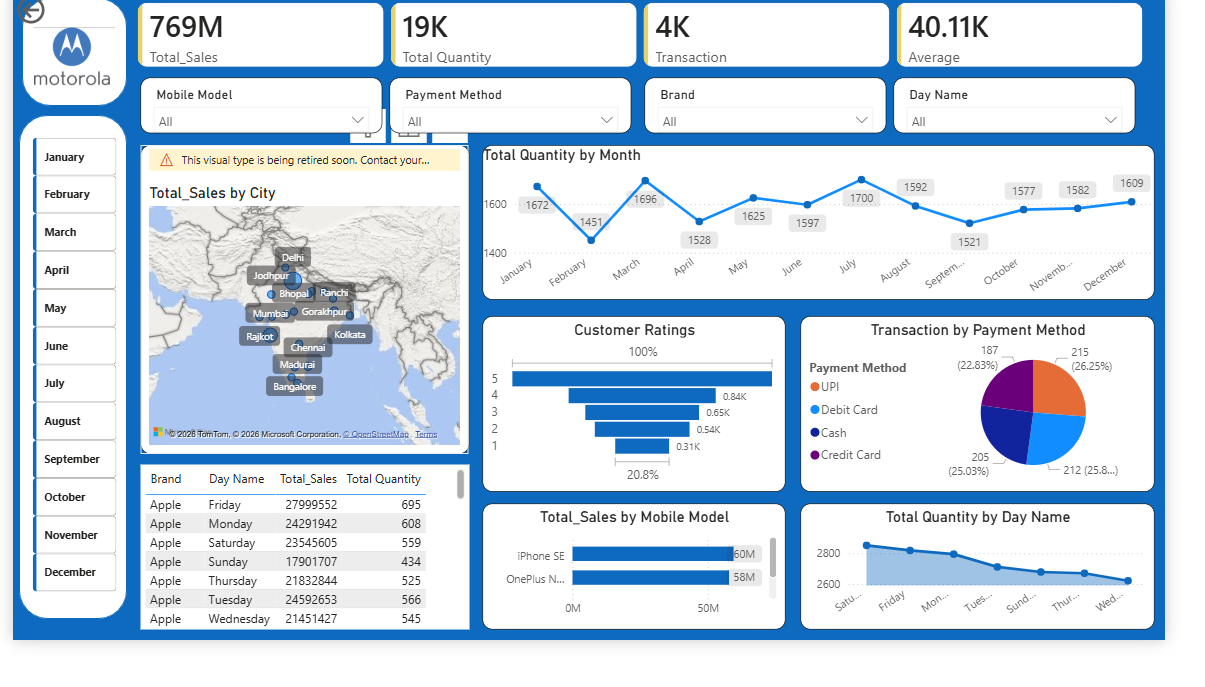

The page's visual inventory and layout, read from the dashboard file:
{"tool":"powerbi","page":{"name":"Page 3","canvas":[1280,720],"ordinal":4},"visuals":[{"type":"shape","box":[10,6.7,116.7,120],"z":0},{"type":"shape","box":[6.7,136.7,120,560],"z":1},{"type":"image","box":[23.3,10,90,126.7],"z":2},{"type":"cardVisual","fields":{"Data":["salessssmdata.Total_Sales","salessssmdata.Total Quantity","salessssmdata.Transaction","salessssmdata.Average"]},"box":[126.7,0,1141.7,95],"z":4},{"type":"map","fields":{"Category":["salessssmdata.City"],"Size":["salessssmdata.Total_Sales"]},"box":[141.7,170,365,343.3],"z":5},{"type":"advancedSlicerVisual","fields":{"Values":["salessssmdata.Date.Variation.Date Hierarchy.Month"]},"box":[16.7,156.7,103.3,520],"z":6},{"type":"lineChart","fields":{"Category":["salessssmdata.Date.Variation.Date Hierarchy.Month"],"Y":["salessssmdata.Total Quantity"]},"box":[521.7,170,746.7,171.7],"z":7},{"type":"barChart","fields":{"Category":["salessssmdata.Mobile Model"],"Y":["salessssmdata.Total_Sales"]},"box":[521.7,568.3,336.7,140],"z":8},{"type":"pieChart","fields":{"Category":["salessssmdata.Payment Method"],"Y":["salessssmdata.Transaction"]},"box":[875,360,393.3,195],"z":9},{"type":"funnel","title":"Customer Ratings ","fields":{"Category":["salessssmdata.Customer Ratings"],"Y":["CountNonNull(salessssmdata.Customer Ratings)"]},"box":[521.7,360,336.7,195],"z":11},{"type":"stackedAreaChart","fields":{"Category":["salessssmdata.Day Name"],"Y":["salessssmdata.Total Quantity"]},"box":[875,568.3,393.3,140],"z":12},{"type":"tableEx","fields":{"Values":["salessssmdata.Brand","salessssmdata.Day Name","salessssmdata.Total_Sales","salessssmdata.Total Quantity"]},"box":[141.7,525,365,183.3],"z":13},{"type":"slicer","fields":{"Values":["salessssmdata.Mobile Model"]},"box":[141.7,95,268.3,61.7],"z":14},{"type":"slicer","fields":{"Values":["salessssmdata.Payment Method"]},"box":[418.3,95,268.3,61.7],"z":15},{"type":"slicer","fields":{"Values":["salessssmdata.Brand"]},"box":[701.7,95,268.3,61.7],"z":16},{"type":"slicer","fields":{"Values":["salessssmdata.Day Name"]},"box":[978.3,95,268.3,61.7],"z":17},{"type":"actionButton","box":[0,0,100,40],"z":18}]}

Visuals, with their boxes in screenshot pixels (x1, y1, x2, y2):
shape: Rect(22, 0, 126, 104)
shape: Rect(19, 113, 126, 614)
image: Rect(33, 0, 114, 113)
cardVisual - salessssmdata.Total_Sales x salessssmdata.Total Quantity: Rect(126, 0, 1148, 76)
map - salessssmdata.City x salessssmdata.Total_Sales: Rect(139, 143, 466, 450)
advancedSlicerVisual - salessssmdata.Date.Variation.Date Hierarchy.Month: Rect(28, 131, 120, 597)
lineChart - salessssmdata.Date.Variation.Date Hierarchy.Month x salessssmdata.Total Quantity: Rect(480, 143, 1148, 297)
barChart - salessssmdata.Mobile Model x salessssmdata.Total_Sales: Rect(480, 499, 781, 625)
pieChart - salessssmdata.Payment Method x salessssmdata.Transaction: Rect(796, 313, 1148, 488)
"Customer Ratings " funnel: Rect(480, 313, 781, 488)
stackedAreaChart - salessssmdata.Day Name x salessssmdata.Total Quantity: Rect(796, 499, 1148, 625)
tableEx - salessssmdata.Brand x salessssmdata.Day Name: Rect(139, 461, 466, 625)
slicer - salessssmdata.Mobile Model: Rect(139, 76, 380, 131)
slicer - salessssmdata.Payment Method: Rect(387, 76, 627, 131)
slicer - salessssmdata.Brand: Rect(641, 76, 881, 131)
slicer - salessssmdata.Day Name: Rect(889, 76, 1129, 131)
actionButton: Rect(13, 0, 102, 26)
